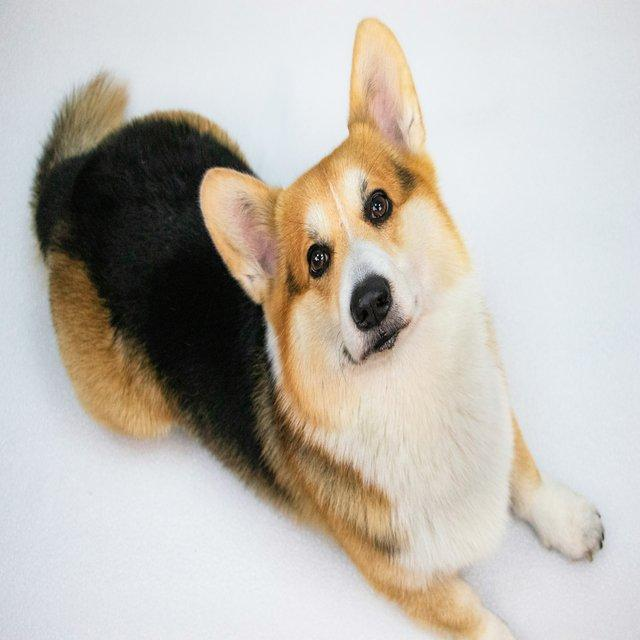corgi: (28, 16, 605, 638)
